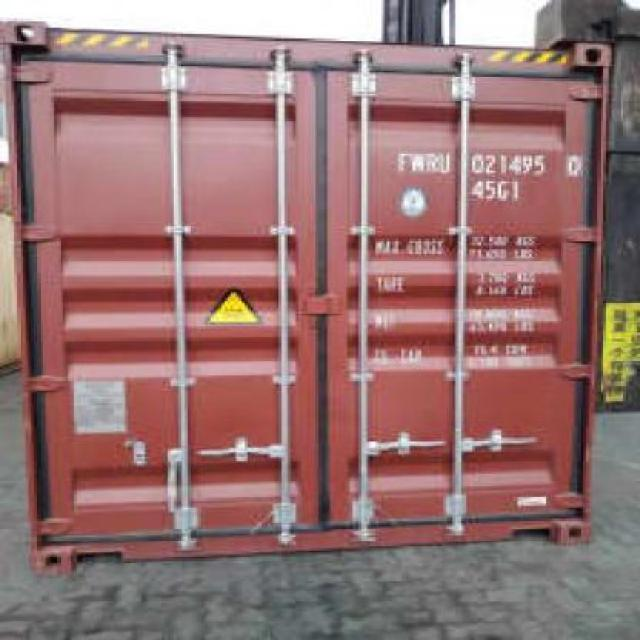ISO: (472, 180, 522, 203)
container_number: (401, 149, 582, 177)
